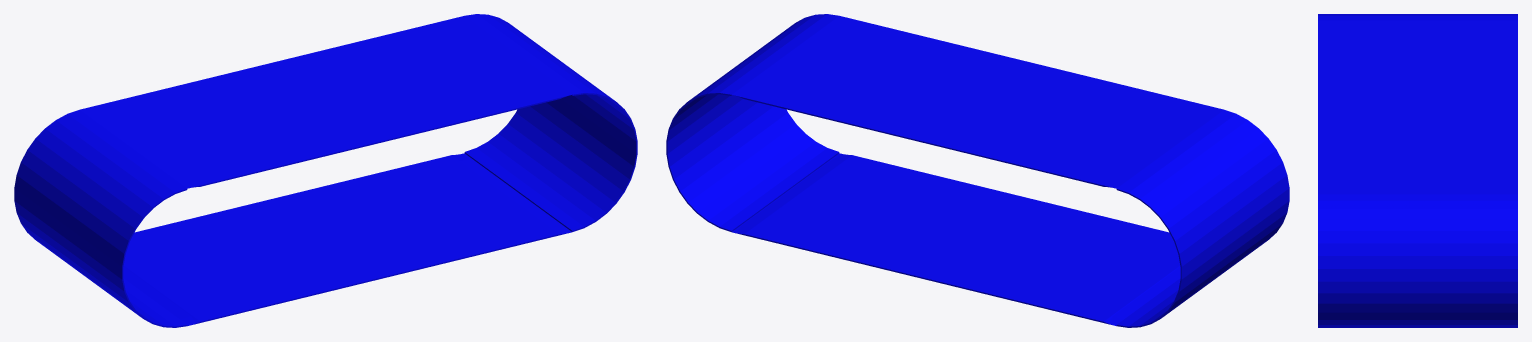
File: crawler_b.dae
The picture shows the model from 3 angles, left to right: view 1: azimuth 30°, elevation 25°; view 2: azimuth 150°, elevation 25°; view 3: azimuth 270°, elevation 25°; orthographic projection. The views are drawn at different scales.
Visible parts, largest first — view 1: Crawler; view 2: Crawler; view 3: Crawler.
Part boxes in pixels (x1,y1,x2,y2): Crawler: (14,14,637,327); Crawler: (666,14,1289,327); Crawler: (1318,14,1517,327).
Bounding box in the file's own units: 0.4 × 0.145 × 0.102.
